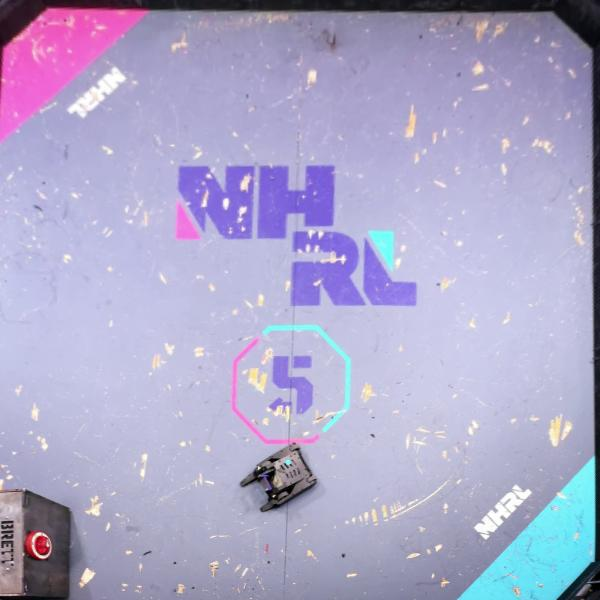housebot: (0, 489, 72, 600)
robot: (239, 443, 319, 513)
